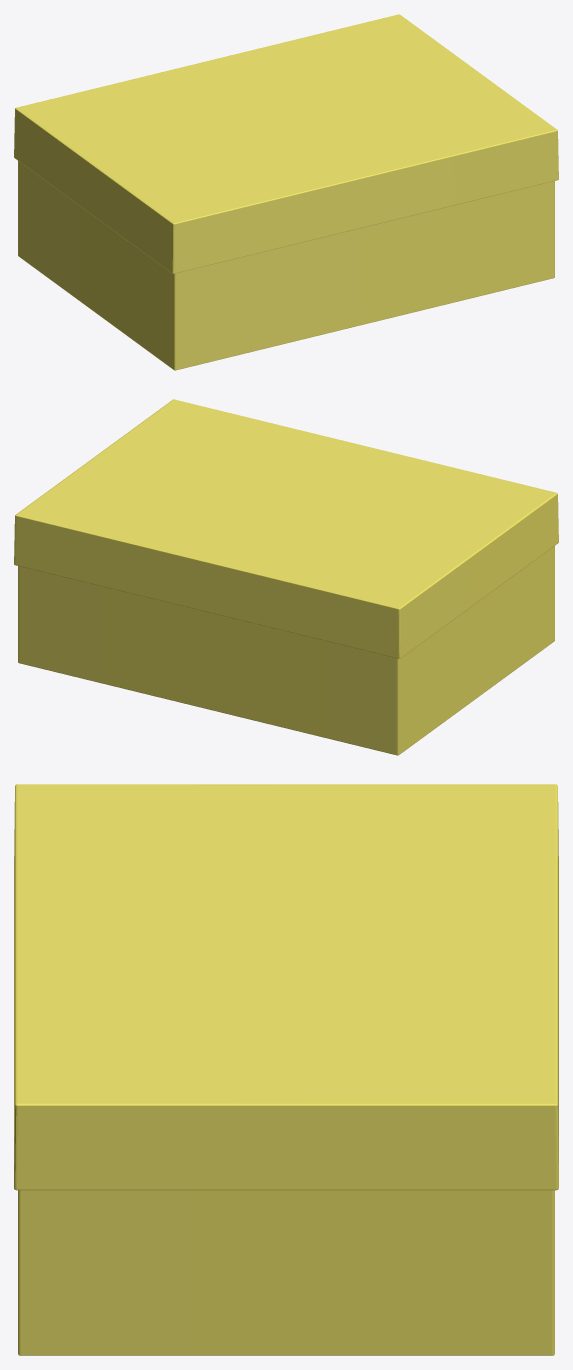
The model's file is Yellow Shoebox.fbx.
3 views of the same model, one above another, from view 1: azimuth 30°, elevation 25°; view 2: azimuth 150°, elevation 25°; view 3: azimuth 270°, elevation 25° (orthographic). The views are drawn at different scales.
Visible parts, largest first — view 1: Yellow Shoebox; view 2: Yellow Shoebox; view 3: Yellow Shoebox.
Part boxes in pixels (left/top/right/bottom): Yellow Shoebox: left=14, top=14, right=558, bottom=370; Yellow Shoebox: left=14, top=399, right=558, bottom=755; Yellow Shoebox: left=14, top=784, right=558, bottom=1355.
Size of the model in its own units: 95.2 by 186 by 260.
1 material, 1 textured.
